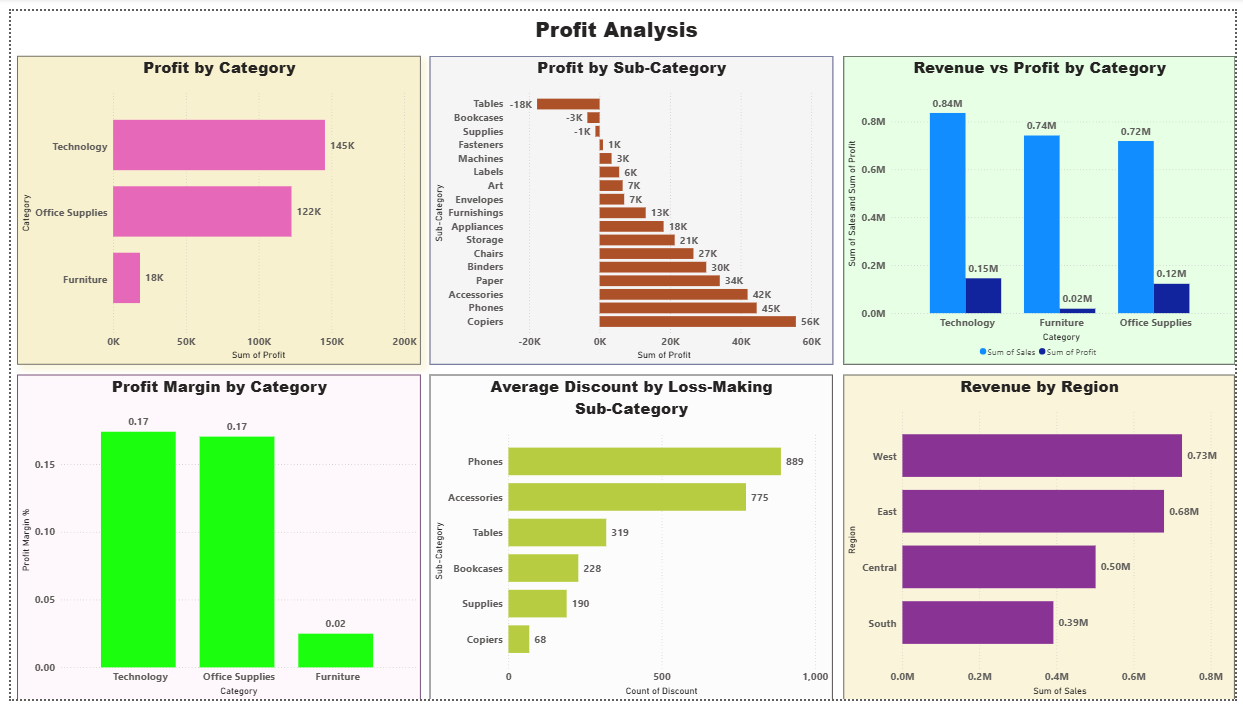

What the dashboard file says about the page in this screenshot:
{"tool":"powerbi","page":{"name":"Profit Analysis","canvas":[1920,1080],"ordinal":1},"visuals":[{"type":"clusteredBarChart","title":"Profit by Category","fields":{"Category":["Sample - Superstore.Category"],"Y":["Sum(Sample - Superstore.Profit)"]},"box":[10.2,71.4,632.7,483.7],"z":0},{"type":"clusteredBarChart","title":"Profit by Sub-Category","fields":{"Category":["Sample - Superstore.Sub-Category"],"Y":["Sum(Sample - Superstore.Profit)"]},"box":[657.1,71.4,632.7,483.7],"z":1000},{"type":"clusteredColumnChart","title":"Revenue vs Profit by Category","fields":{"Category":["Sample - Superstore.Category"],"Y":["Sum(Sample - Superstore.Sales)","Sum(Sample - Superstore.Profit)"]},"box":[1306.1,71.4,614.3,483.7],"z":2000},{"type":"clusteredBarChart","title":"Revenue by Region","fields":{"Category":["Sample - Superstore.Region"],"Y":["Sum(Sample - Superstore.Sales)"]},"box":[1306.7,570,613.3,510],"z":3000},{"type":"clusteredColumnChart","title":"Profit Margin by Category","fields":{"Category":["Sample - Superstore.Category"],"Y":["Sample - Superstore.Profit Margin %"]},"box":[10,570,633,510],"z":4000},{"type":"clusteredBarChart","title":"Average Discount by Loss-Making Sub-Category","fields":{"Category":["Sample - Superstore.Sub-Category"],"Y":["CountNonNull(Sample - Superstore.Discount)"]},"box":[656.7,570,631.7,510],"z":5000},{"type":"textbox","box":[100,0,1700,57.1],"z":6000}]}

Visuals, with their boxes in screenshot pixels (x1, y1, x2, y2), scaled from the page's 1920x1080 canvas onto the 1243x708 screenshot:
"Profit by Category" clusteredBarChart: [left=7, top=47, right=416, bottom=364]
"Profit by Sub-Category" clusteredBarChart: [left=425, top=47, right=835, bottom=364]
"Revenue vs Profit by Category" clusteredColumnChart: [left=846, top=47, right=1242, bottom=364]
"Revenue by Region" clusteredBarChart: [left=846, top=374, right=1242, bottom=707]
"Profit Margin by Category" clusteredColumnChart: [left=6, top=374, right=416, bottom=707]
"Average Discount by Loss-Making Sub-Category" clusteredBarChart: [left=425, top=374, right=834, bottom=707]
textbox: [left=65, top=0, right=1165, bottom=37]
